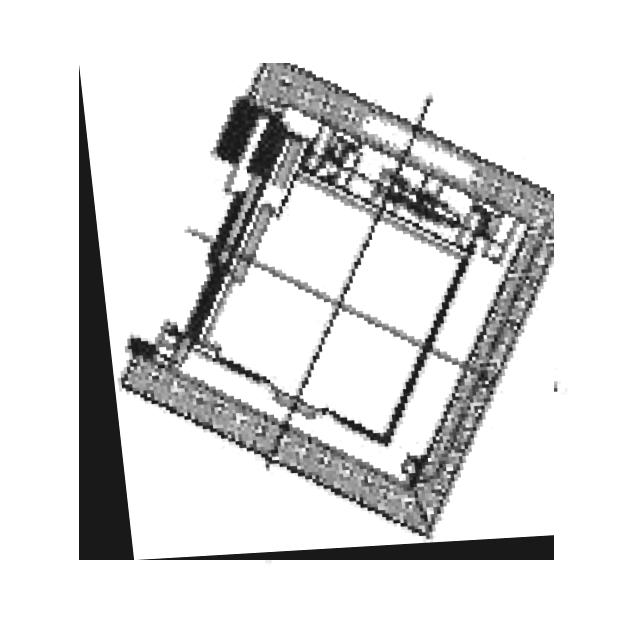lift: (79, 63, 554, 560)
